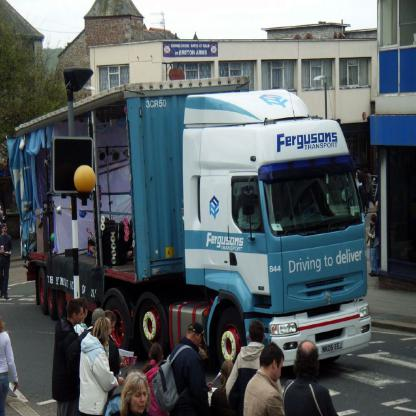Truck: (37, 61, 370, 385)
